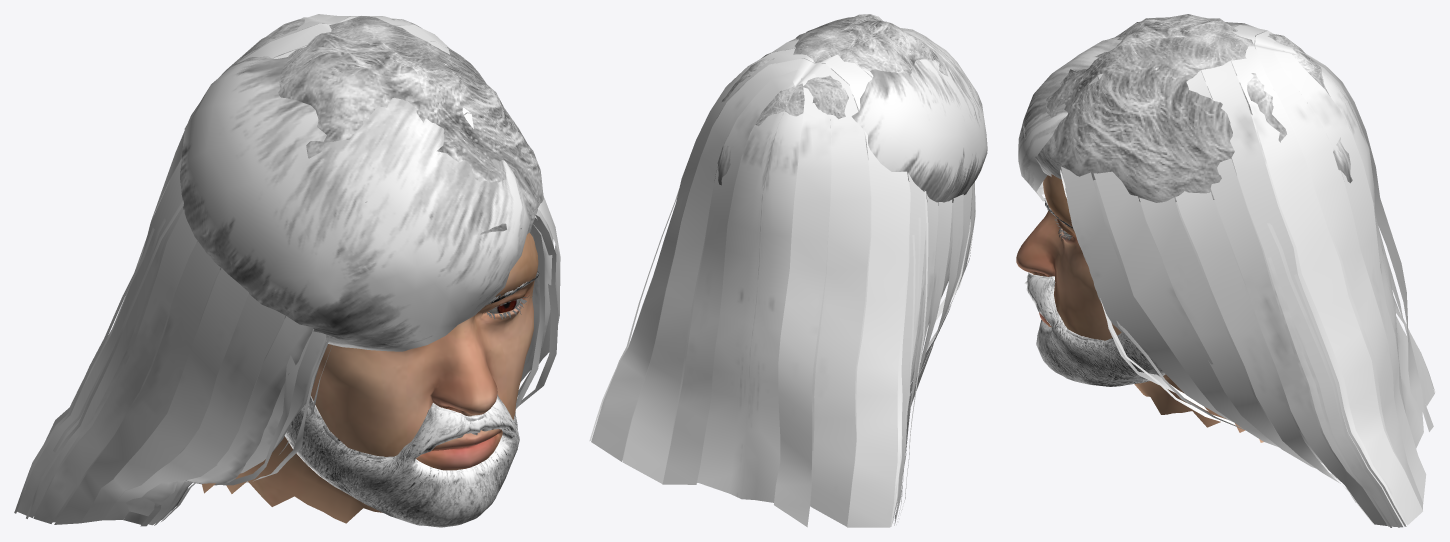
The model's file is mh_head_m.glb.
The picture shows the model from 3 angles, left to right: view 1: azimuth 30°, elevation 25°; view 2: azimuth 150°, elevation 25°; view 3: azimuth 270°, elevation 25°; orthographic projection. The views are drawn at different scales.
Visible parts, largest first — view 1: hair_short03, hair_long01, hair_short02, face, beard_full, face_cov, beard_short; view 2: hair_long01, hair_short03, hair_short02; view 3: hair_long01, hair_short02, face, beard_full, hair_short03, face_cov.
Boxes of the visible parts, x1,y1,x2,y2 form: hair_short03: (180, 54, 529, 351); hair_long01: (14, 14, 560, 526); hair_short02: (239, 16, 543, 234); face: (202, 232, 537, 523); beard_full: (284, 394, 519, 527); face_cov: (311, 248, 538, 512); beard_short: (309, 395, 507, 472); hair_long01: (589, 38, 975, 527); hair_short03: (714, 28, 987, 205); hair_short02: (717, 14, 948, 127); hair_long01: (1060, 24, 1434, 527); hair_short02: (1023, 14, 1330, 202); face: (1016, 176, 1263, 442); beard_full: (1024, 275, 1165, 386); hair_short03: (1018, 22, 1352, 201); face_cov: (1016, 174, 1168, 396).
Size of the model in its own units: 0.2595 by 0.3151 by 0.2758.
Materials: 9 (9 with a texture image).
